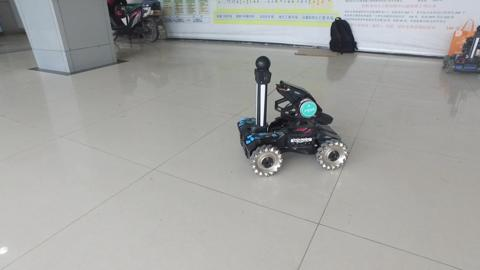bag: (327, 14, 360, 56), (446, 14, 477, 57)
chariot: (236, 53, 348, 177), (440, 21, 480, 74)
